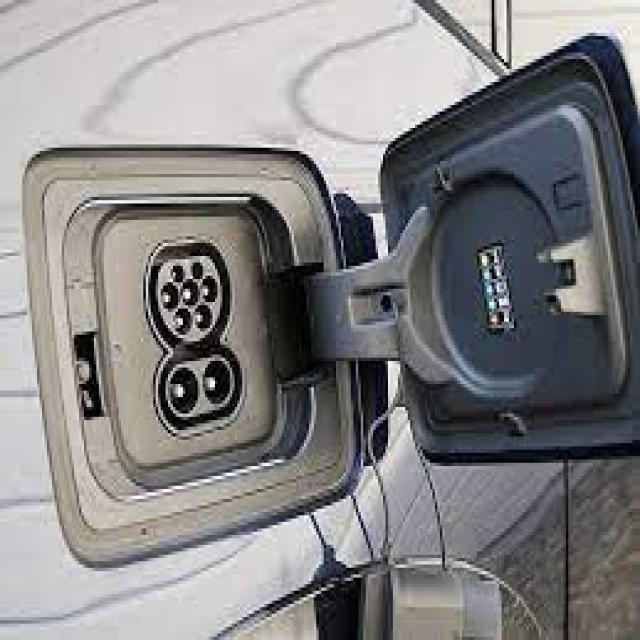inlet: (155, 255, 223, 342)
inlet-above-left: (172, 264, 185, 282)
inlet-above-right: (191, 262, 204, 279)
inlet-below-left: (175, 308, 192, 335)
inlet-below-right: (195, 303, 212, 329)
inlet-circle: (181, 280, 201, 307)
inlet-circle-left: (161, 282, 180, 310)
inlet-circle-right: (203, 276, 218, 303)
inlet-minus: (203, 360, 232, 403)
inlet-plus: (171, 368, 199, 415)
